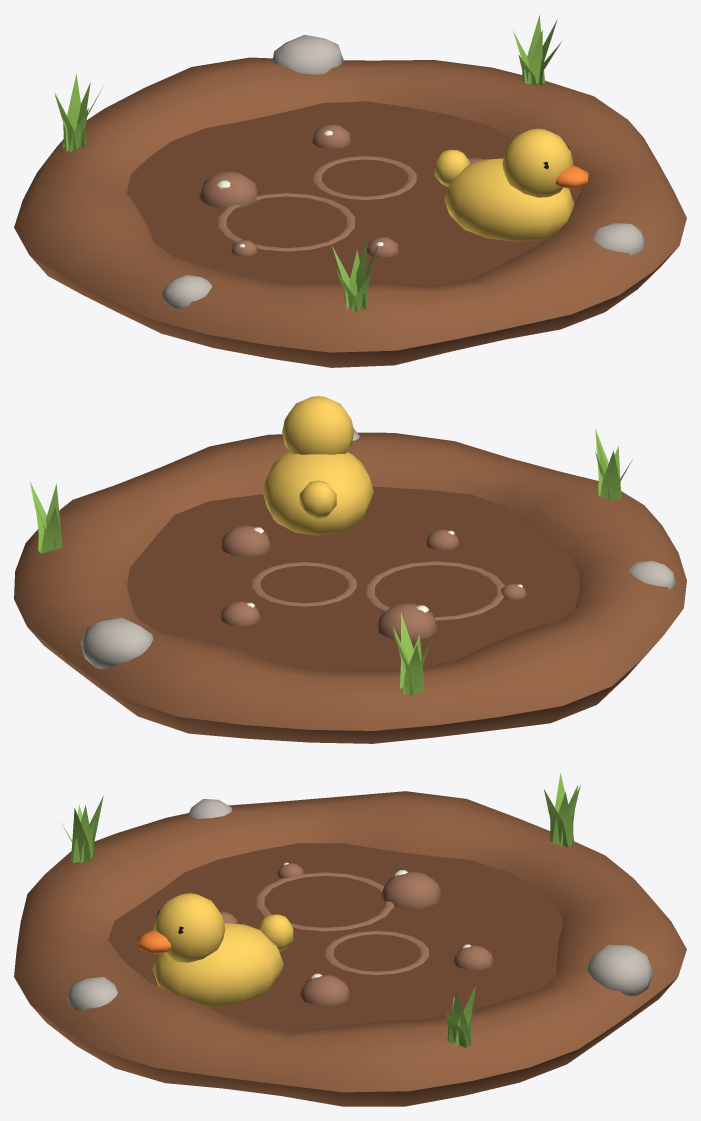
Rendered from prop_mud_pool.glb.
3 renders of one model, top to bottom at view 1: azimuth 30°, elevation 25°; view 2: azimuth 150°, elevation 25°; view 3: azimuth 270°, elevation 25°, orthographic.
Parts seen in each view (by area): view 1: prop_mud_pool; view 2: prop_mud_pool; view 3: prop_mud_pool.
Boxes of the visible parts, box(x1,y1,x2,y2) form: prop_mud_pool: box(14, 15, 686, 367); prop_mud_pool: box(14, 396, 686, 743); prop_mud_pool: box(14, 773, 686, 1106).
Size of the model in its own units: 1.96 by 0.4483 by 1.95.
